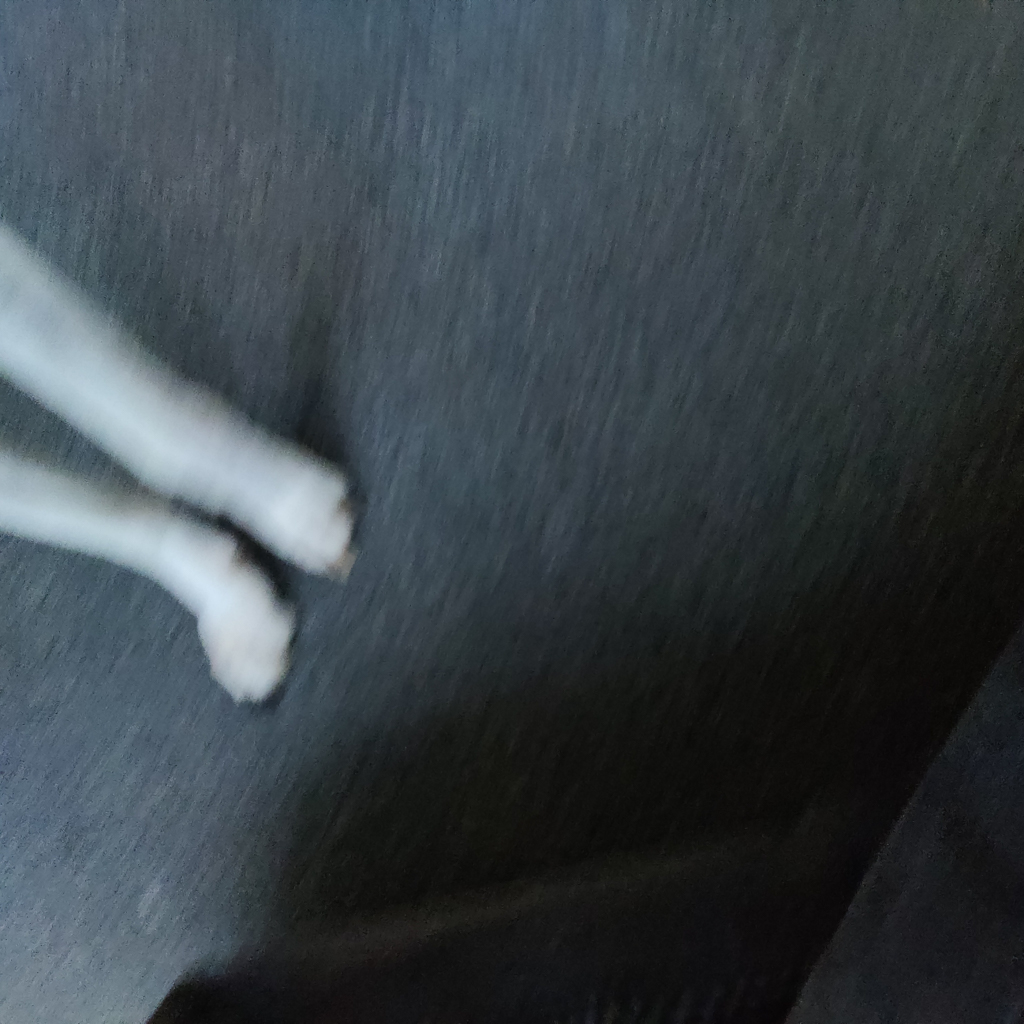Dog: (0, 200, 370, 724)
Humanoid: (780, 621, 1024, 1024)
